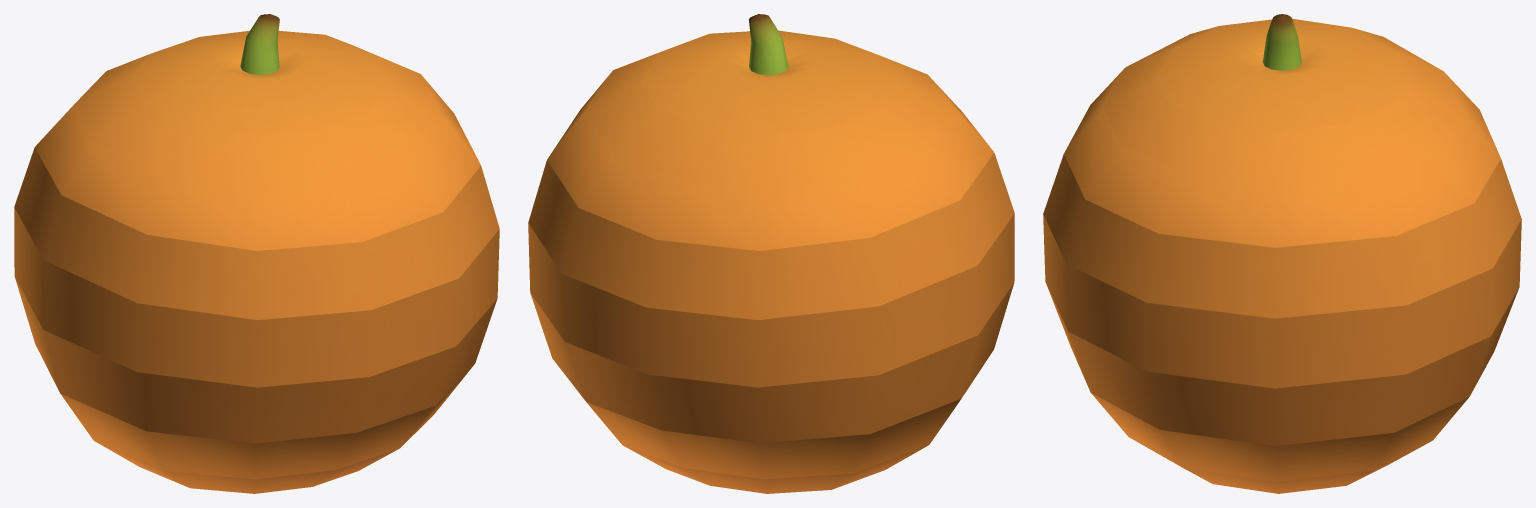
The model's file is Orange.fbx.
3 views of the same model, side by side, from view 1: azimuth 30°, elevation 25°; view 2: azimuth 150°, elevation 25°; view 3: azimuth 270°, elevation 25° (orthographic).
Visible parts, largest first — view 1: Orange; view 2: Orange; view 3: Orange.
Boxes of the visible parts, box(x1,y1,x2,y2) form: Orange: box(14, 14, 499, 493); Orange: box(528, 14, 1014, 493); Orange: box(1043, 14, 1521, 493).
Size of the model in its own units: 3.03 by 3.16 by 2.97.
